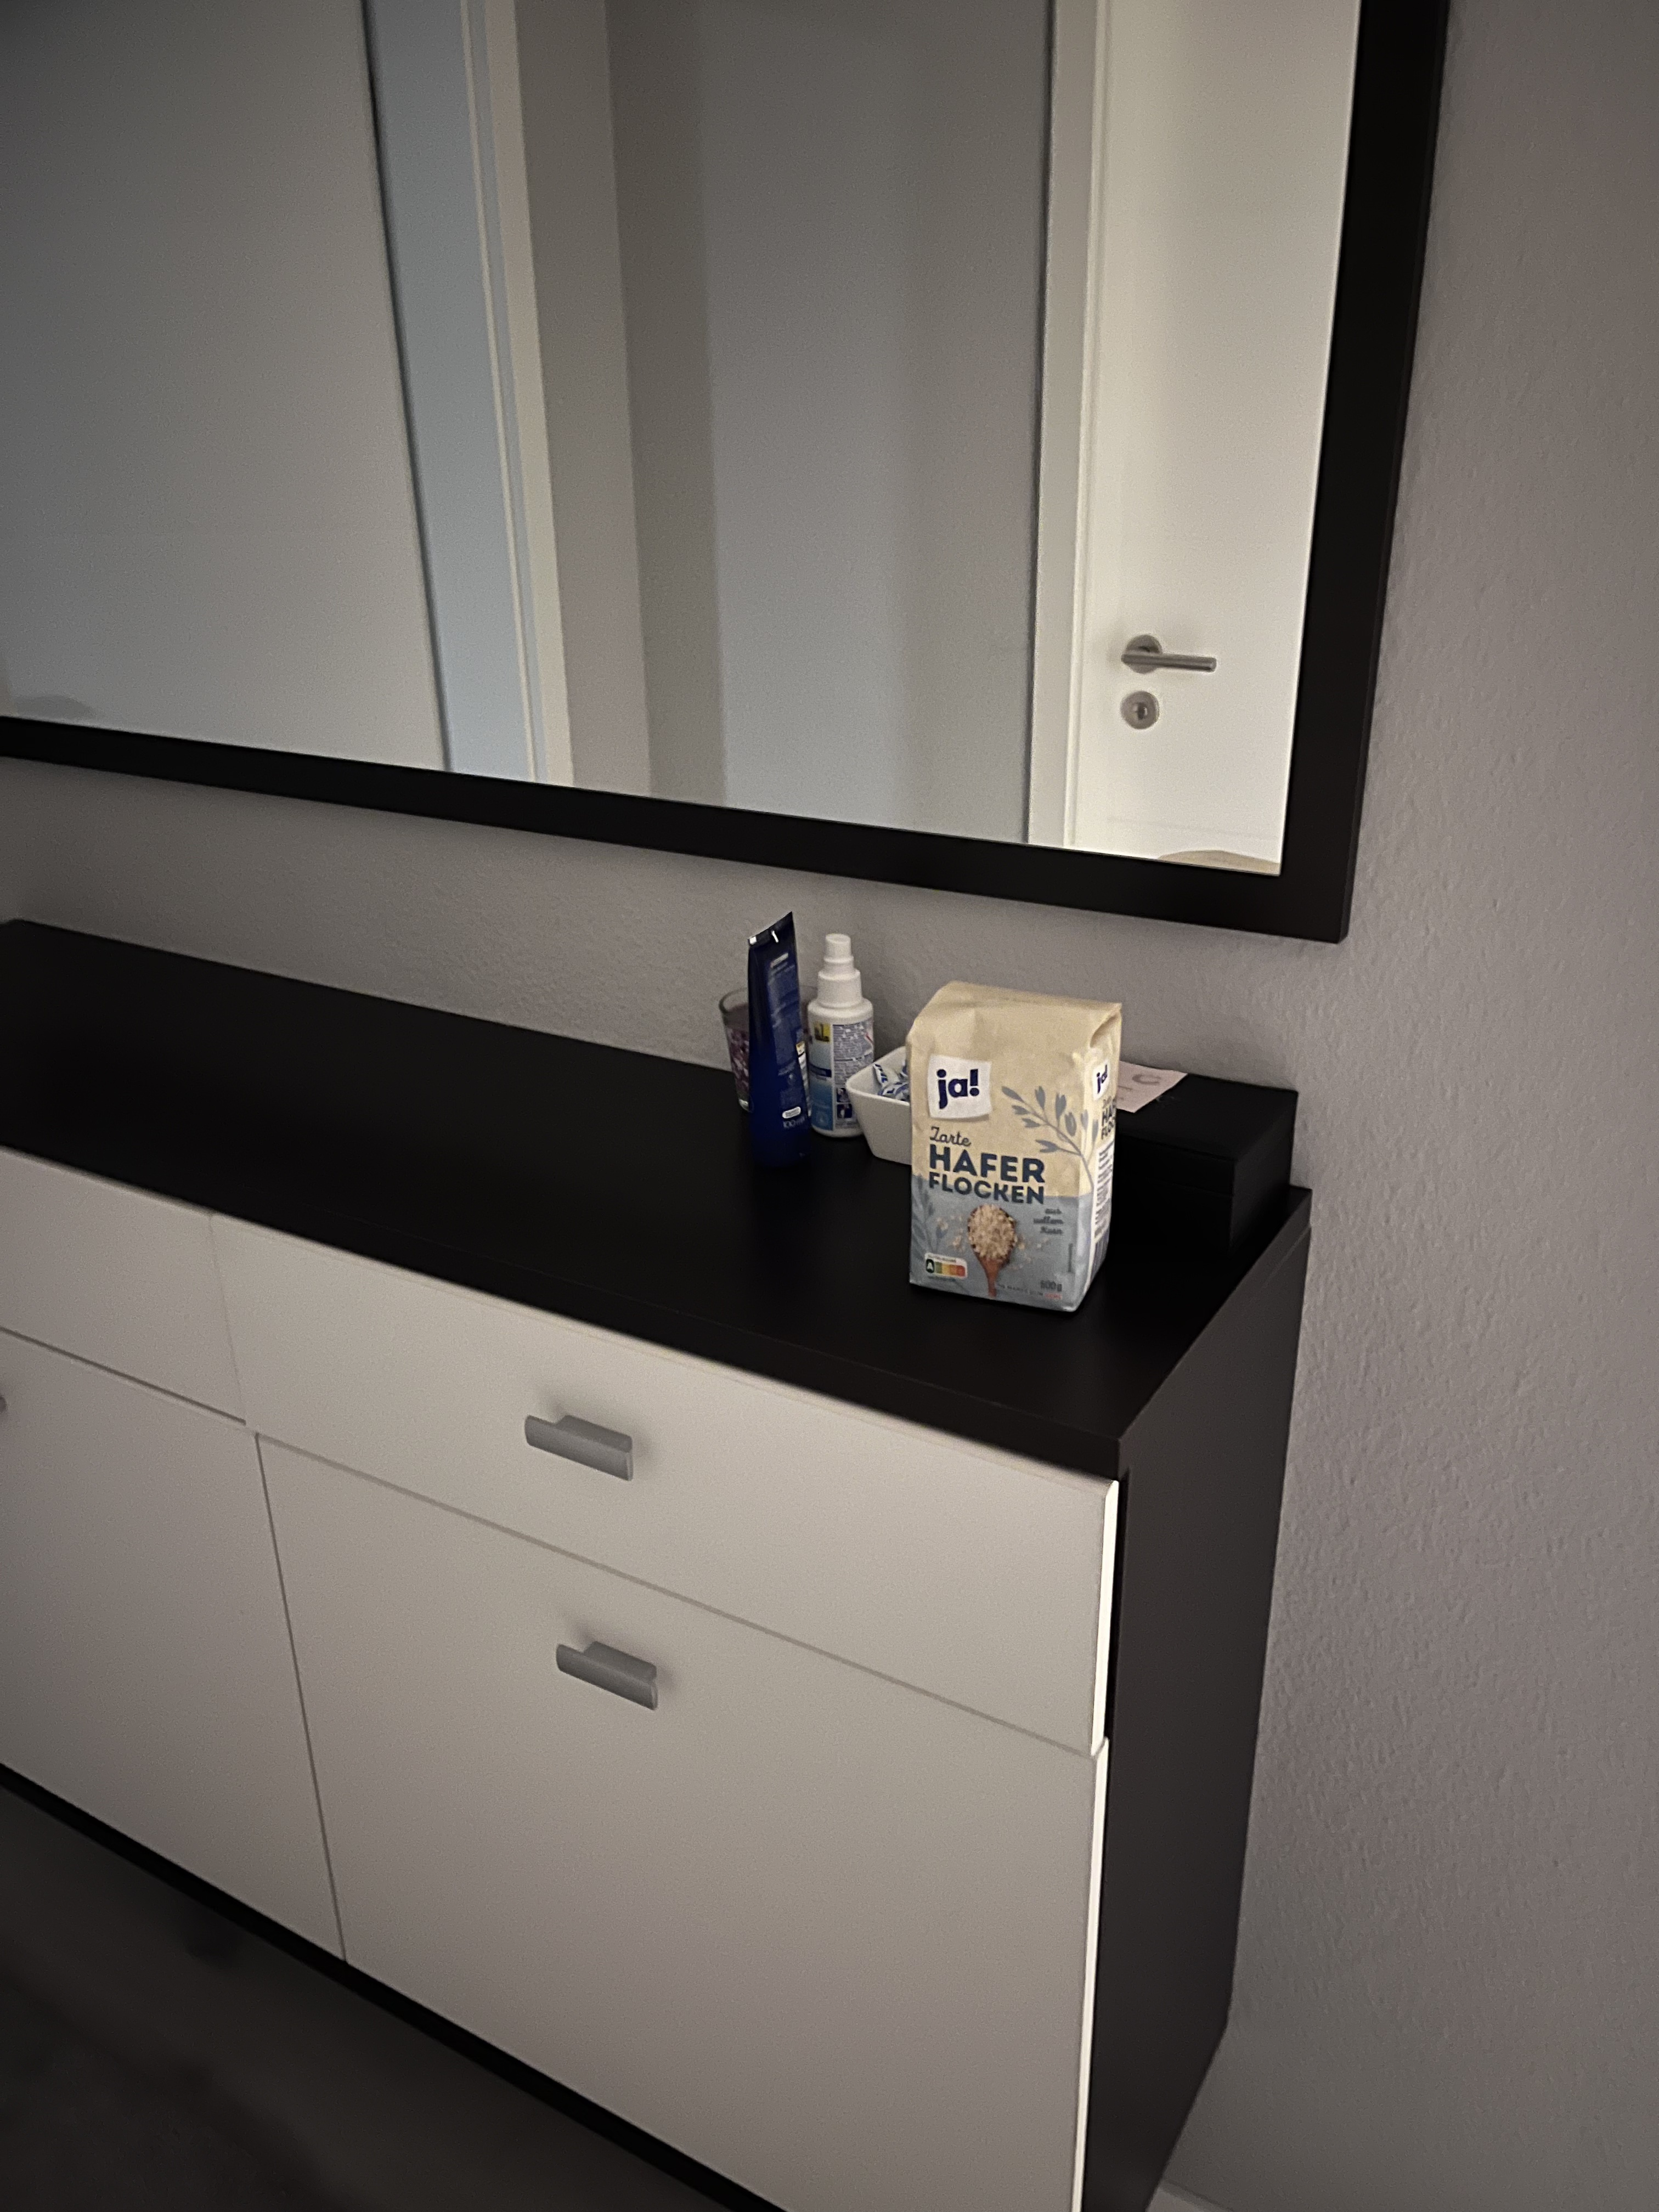haferflocken_ja: (904, 981, 1119, 1312)
